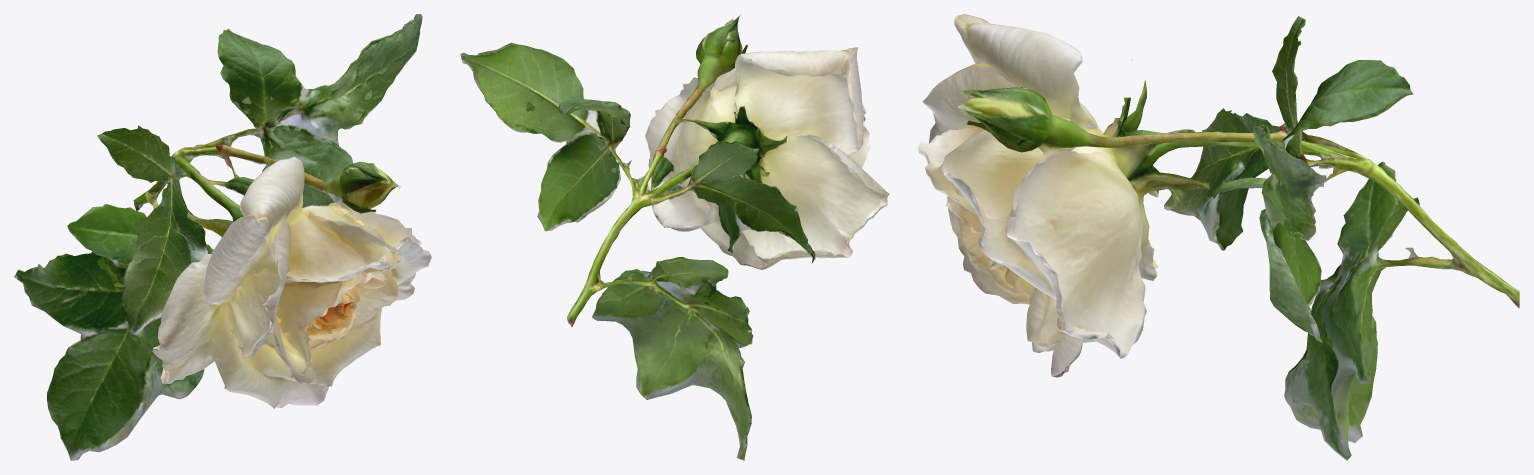
The model's file is rose3.glb.
The picture shows the model from 3 angles, left to right: view 1: azimuth 30°, elevation 25°; view 2: azimuth 150°, elevation 25°; view 3: azimuth 270°, elevation 25°; orthographic projection. The views are drawn at different scales.
Parts seen in each view (by area): view 1: Object_2; view 2: Object_2; view 3: Object_2.
Part boxes in pixels (x1,y1,x2,y2): Object_2: (14, 14, 431, 460); Object_2: (460, 14, 889, 460); Object_2: (918, 14, 1519, 460).
Size of the model in its own units: 0.1773 by 0.1718 by 0.195.
1 material, 1 textured.
